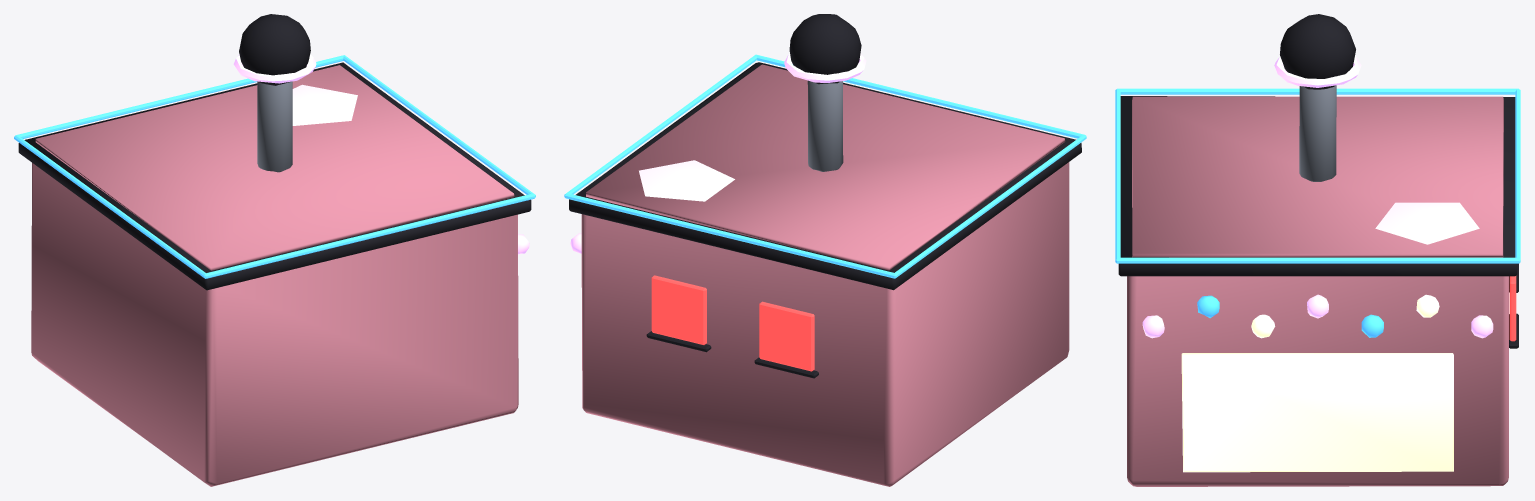
Rendered from karaoke.glb.
3 renders of one model, left to right at view 1: azimuth 30°, elevation 25°; view 2: azimuth 150°, elevation 25°; view 3: azimuth 270°, elevation 25°, orthographic. The views are drawn at different scales.
Visible parts, largest first — view 1: karaoke; view 2: karaoke; view 3: karaoke.
Boxes of the visible parts, bbox=[...] form: karaoke: bbox=[14, 14, 535, 486]; karaoke: bbox=[564, 14, 1086, 486]; karaoke: bbox=[1115, 14, 1520, 486].
Bounding box in the file's own units: 7.6 × 7.88 × 7.4.
1 material, 1 textured.
